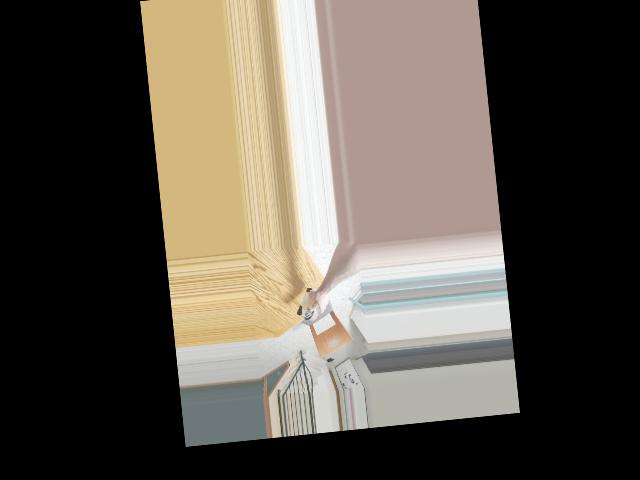cheese: (294, 283, 330, 322)
